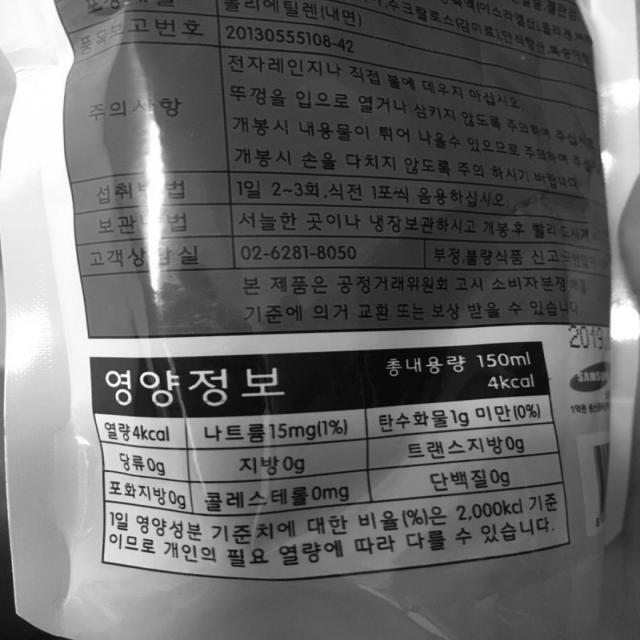Nutrition Label: (75, 340, 575, 585)
